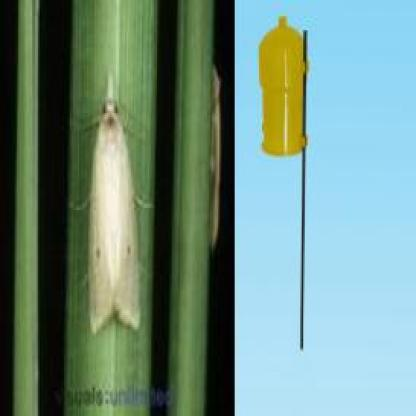stem-borer: (80, 70, 144, 336)
